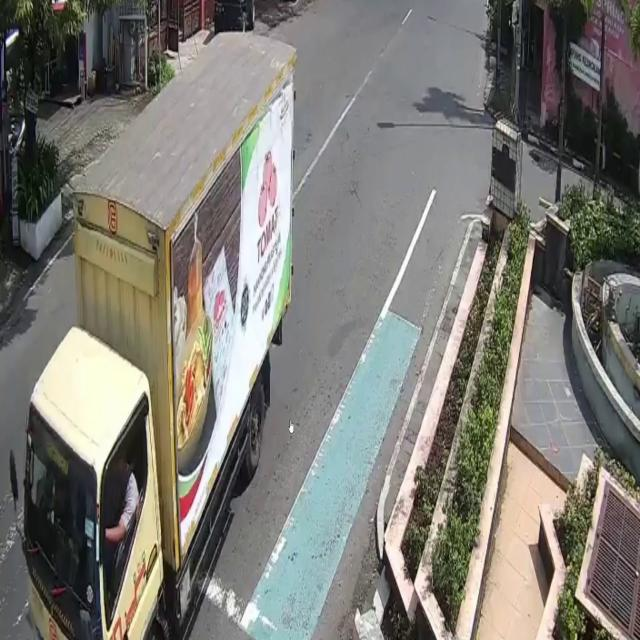truck: (24, 33, 297, 640)
